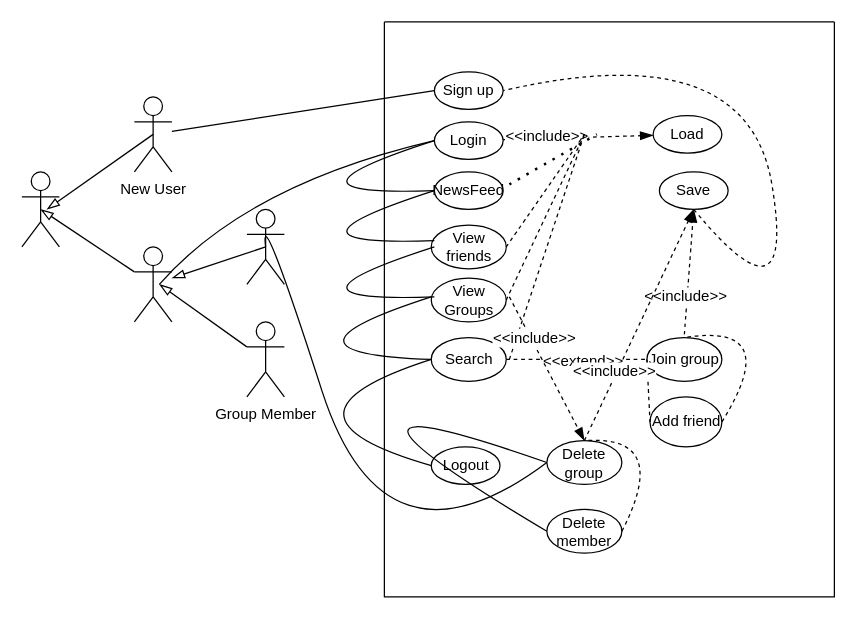
Some shapes in this 856 by 619 pixel diagram are drawn without their labels. Here are the shapes that lost their labels. From the top down, the centre of each, then its label:
the point at 40,209: User
the point at 265,246: Group Admin
the point at 152,284: Old User
the point at 608,309: Connect Hub
